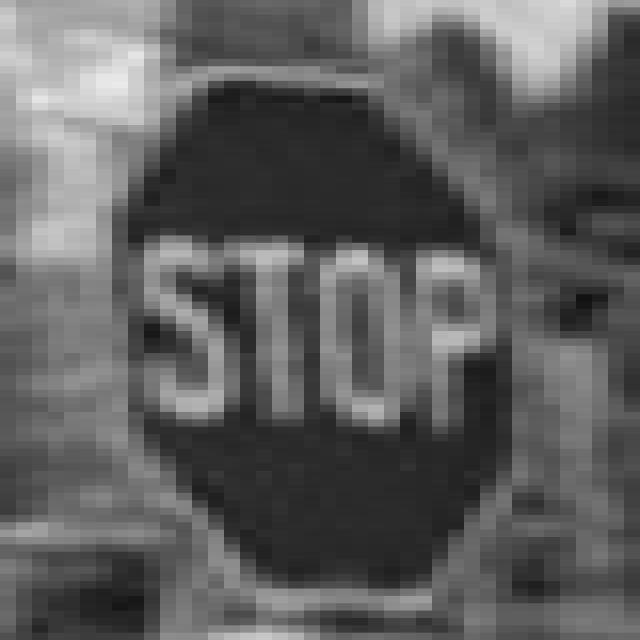stop: (97, 54, 535, 611)
